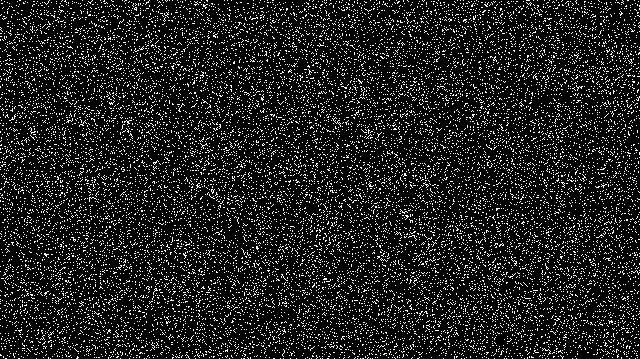pot: (356, 74, 464, 185)
